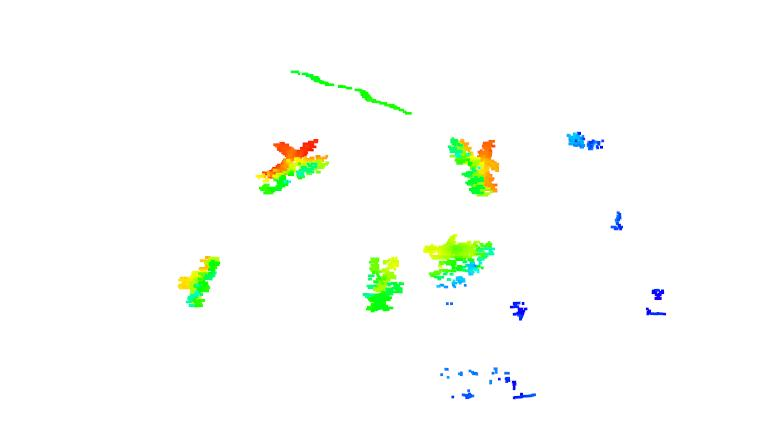chickpea: (256, 137, 328, 196), (425, 232, 494, 292), (446, 131, 501, 198), (175, 253, 220, 312), (362, 254, 405, 314)
